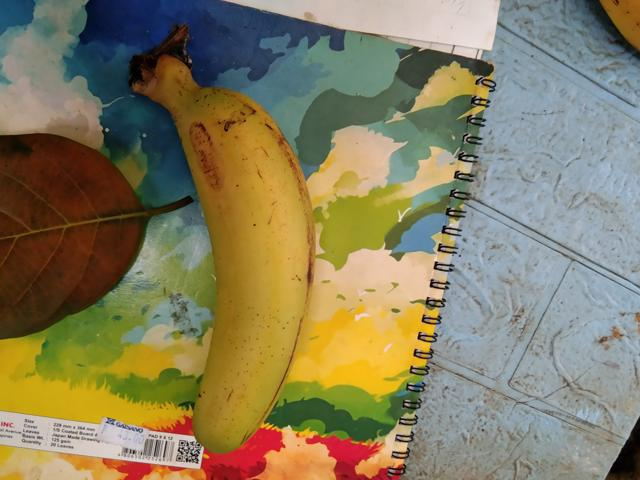ripe: (155, 84, 333, 449)
